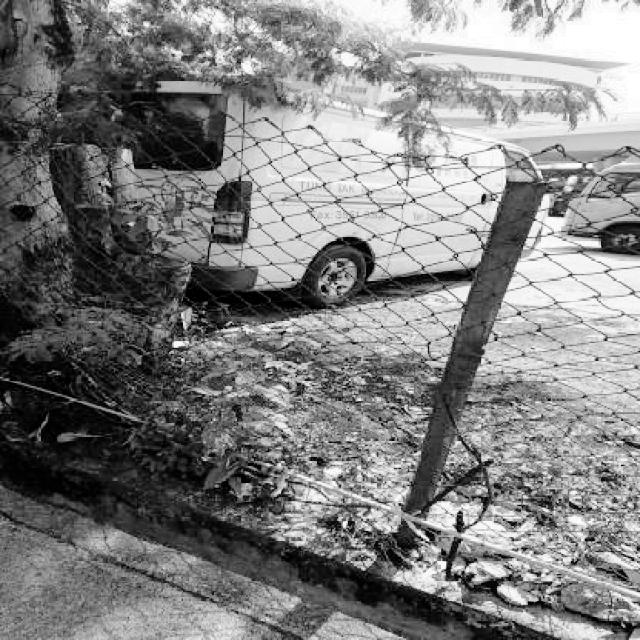fences: (278, 167, 640, 496)
